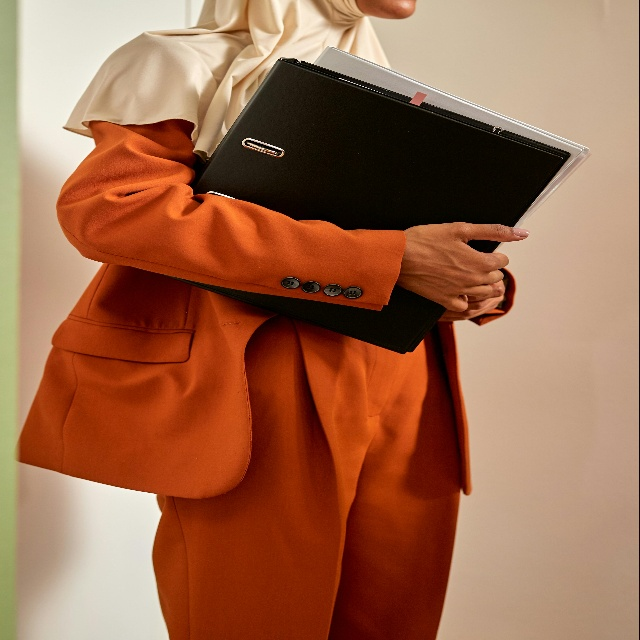Sin_guantes: (394, 213, 532, 313), (436, 274, 506, 323)
